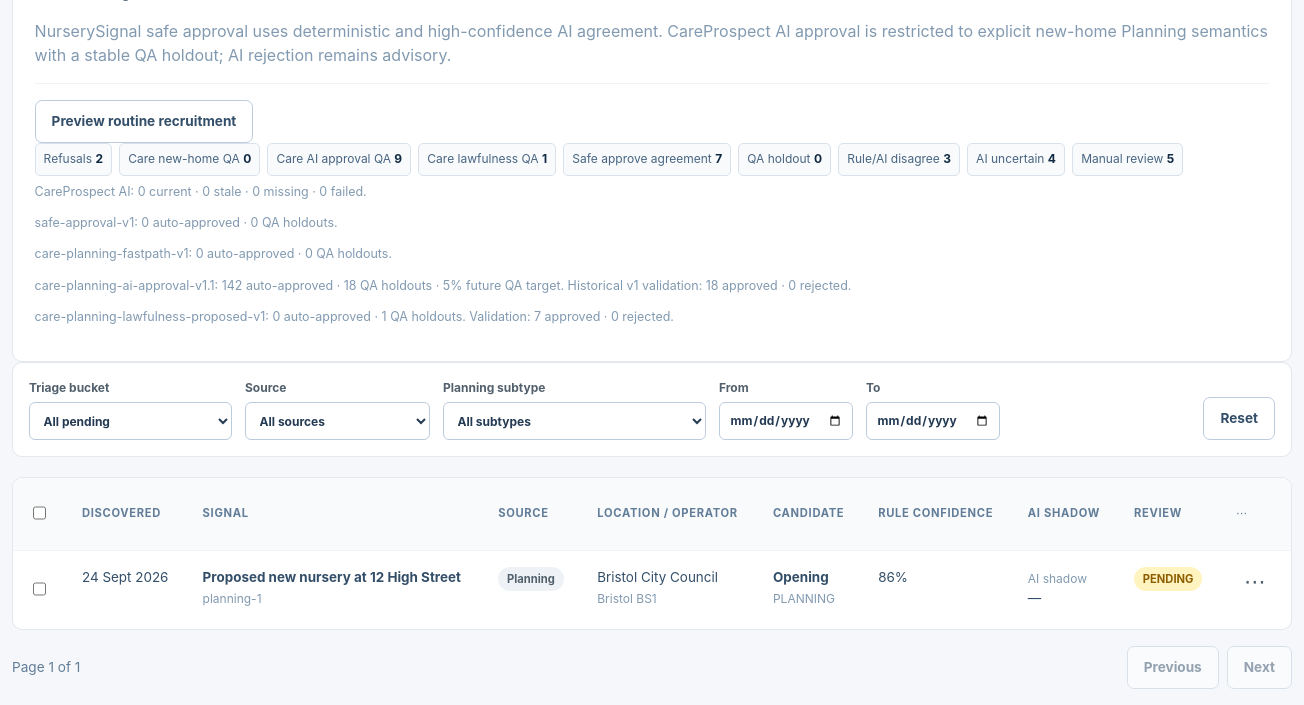
Scenario: admin frontend › offers immediate row actions without a confirmation dialog
(page scrolled)
expect the text "Proposed new nursery at 12 High Street" is shown: met, box [203,568,461,584]
Click the button "⋯": {"x": 1255, "y": 581} [1236,566,1274,596]
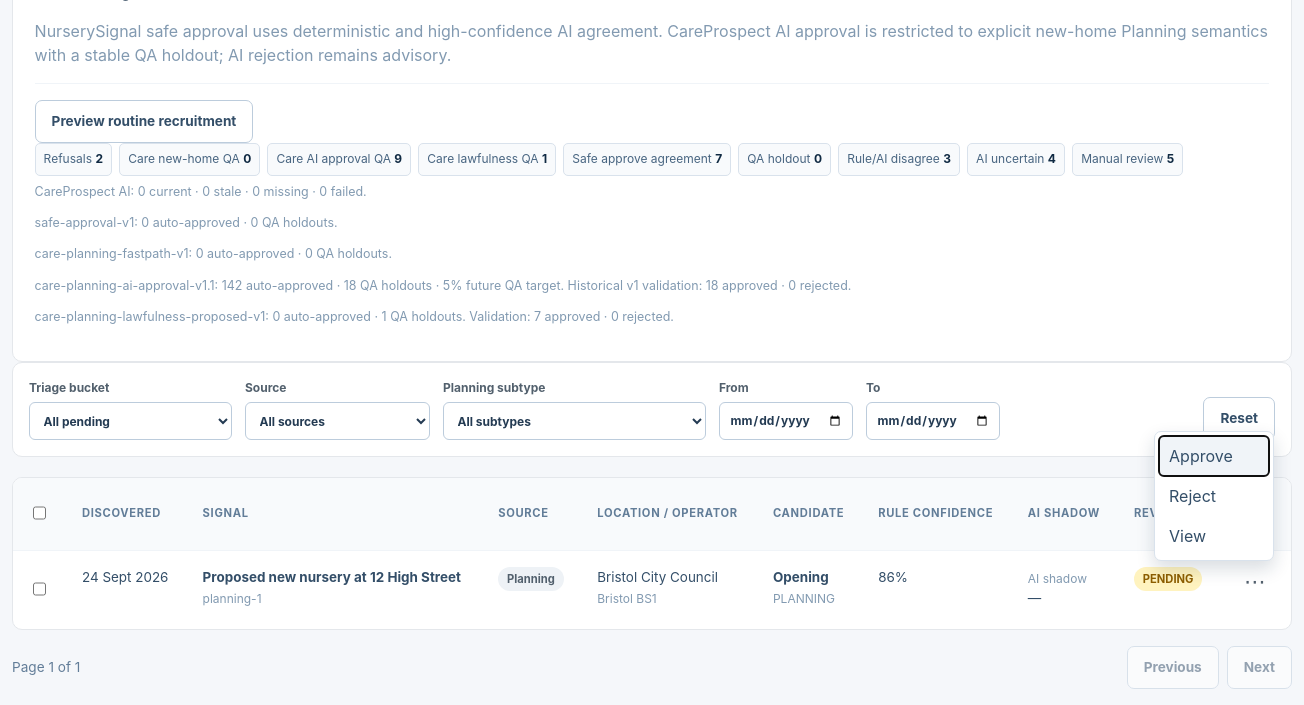
Click the menu item "Approve": {"x": 1214, "y": 456} [1159,436,1269,476]
(page scrolled)
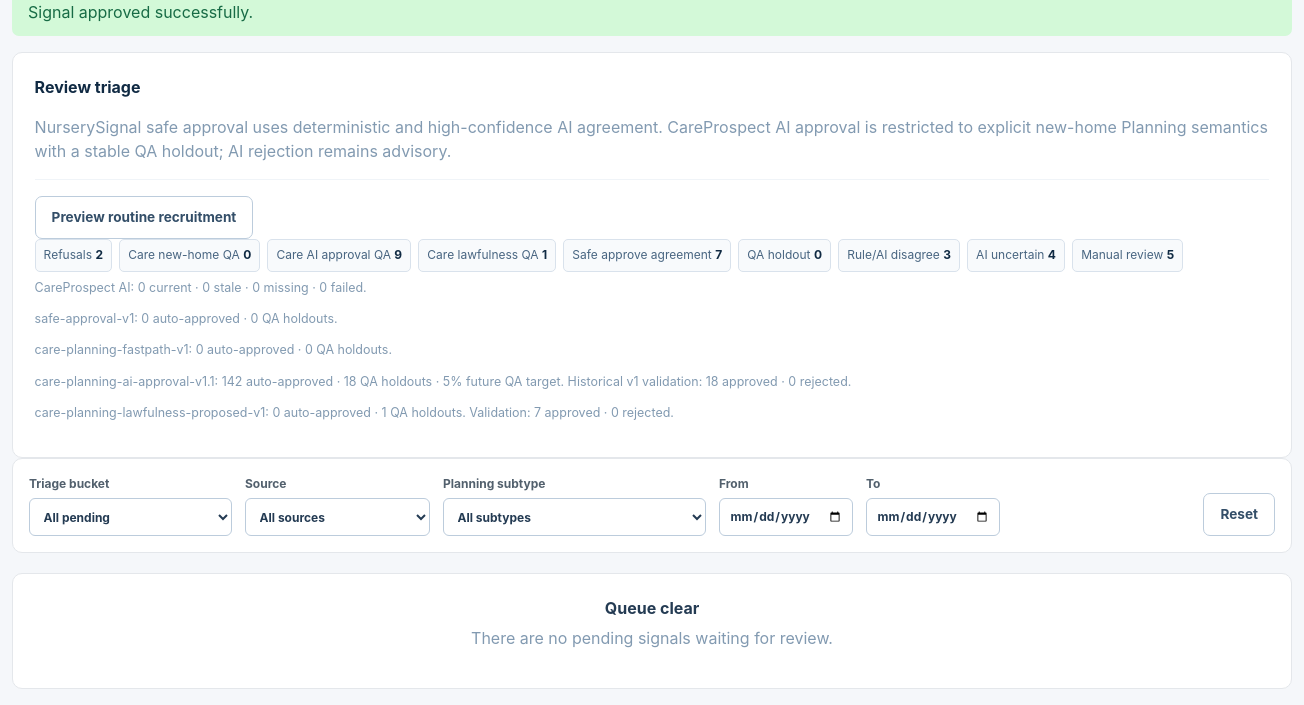
expect the text "Queue clear" is shown: met, box [605,598,699,618]
